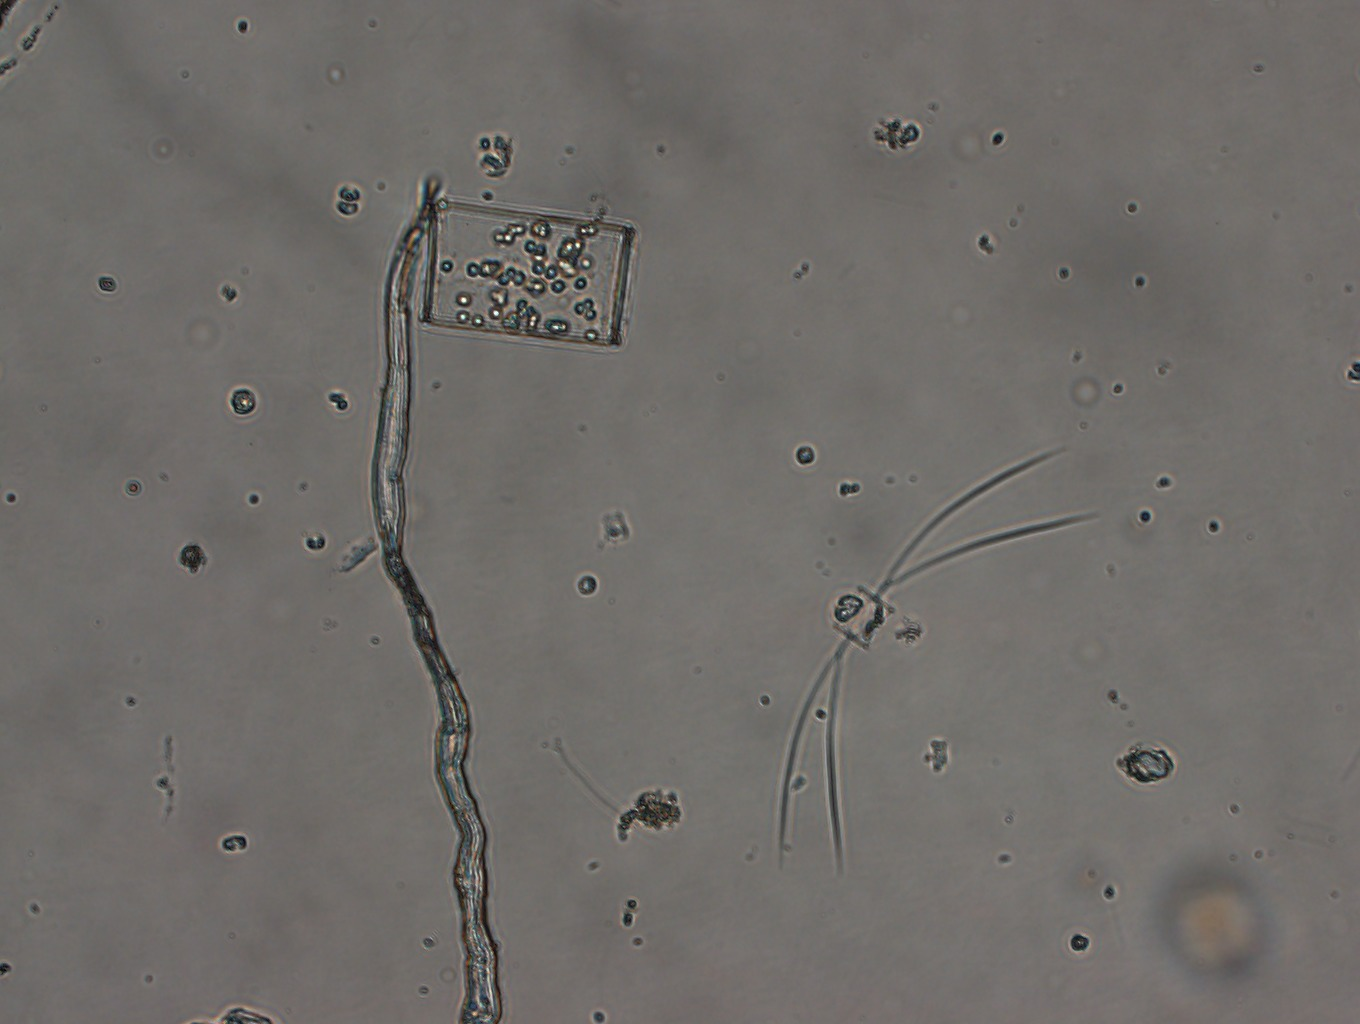chaetoceros: (777, 447, 1104, 870)
guinardia flaccida: (420, 200, 636, 346)
